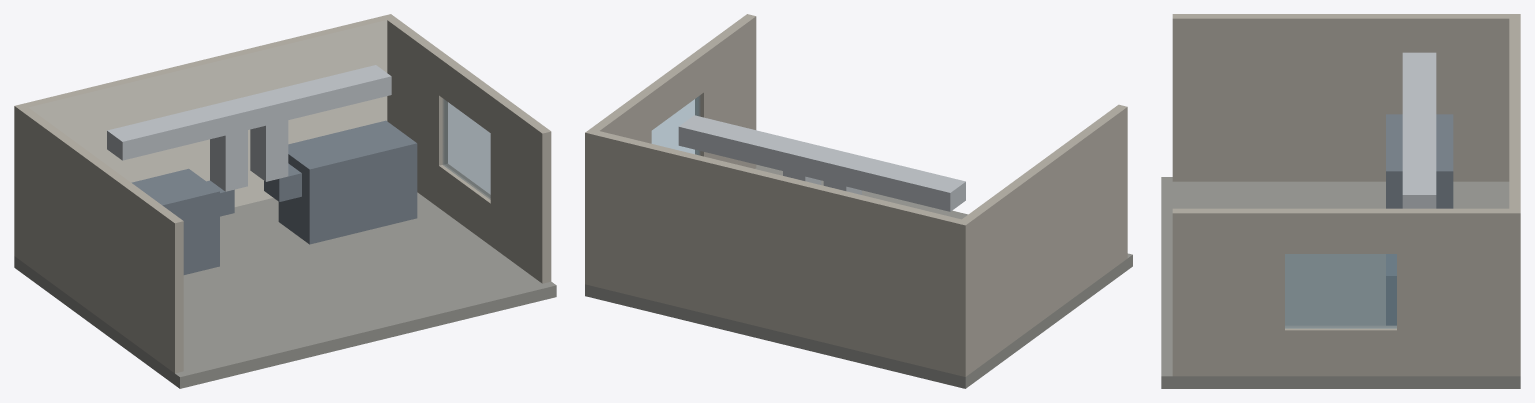
Rendered from sample-plant-room.fbx.
3 renders of one model, left to right at view 1: azimuth 30°, elevation 25°; view 2: azimuth 150°, elevation 25°; view 3: azimuth 270°, elevation 25°, orthographic. The views are drawn at different scales.
Visible parts, largest first — view 1: Floor: Generic 250mm [312101], Basic Wall: Generic 200mm Block [312103], Basic Wall: Generic 200mm Block [312102], Basic Wall: Generic 200mm Block [312104], AHU: Packaged 5000 L/s [312107], Rectangular Duct: Supply 600x400 [312108], AHU: Packaged 5000 L/s [312106], Fixed Window: 2000 x 1500mm [312105]; view 2: Basic Wall: Generic 200mm Block [312102], Basic Wall: Generic 200mm Block [312103], Rectangular Duct: Supply 600x400 [312108], Basic Wall: Generic 200mm Block [312104], Floor: Generic 250mm [312101], Fixed Window: 2000 x 1500mm [312105]; view 3: Basic Wall: Generic 200mm Block [312103], Basic Wall: Generic 200mm Block [312104], Floor: Generic 250mm [312101], Fixed Window: 2000 x 1500mm [312105], Rectangular Duct: Supply 600x400 [312108], Basic Wall: Generic 200mm Block [312102], AHU: Packaged 5000 L/s [312106], AHU: Packaged 5000 L/s [312107].
Boxes of the visible parts, x1,y1,x2,y2 form: Floor: Generic 250mm [312101]: [14, 192, 556, 388]; Basic Wall: Generic 200mm Block [312103]: [19, 107, 183, 373]; Basic Wall: Generic 200mm Block [312102]: [14, 14, 395, 259]; Basic Wall: Generic 200mm Block [312104]: [387, 18, 551, 283]; AHU: Packaged 5000 L/s [312107]: [264, 120, 417, 244]; Rectangular Duct: Supply 600x400 [312108]: [107, 65, 391, 191]; AHU: Packaged 5000 L/s [312106]: [131, 168, 234, 274]; Fixed Window: 2000 x 1500mm [312105]: [443, 99, 490, 199]; Basic Wall: Generic 200mm Block [312102]: [585, 129, 970, 376]; Basic Wall: Generic 200mm Block [312103]: [962, 104, 1127, 372]; Rectangular Duct: Supply 600x400 [312108]: [678, 115, 965, 211]; Basic Wall: Generic 200mm Block [312104]: [590, 14, 756, 168]; Floor: Generic 250mm [312101]: [585, 164, 1132, 388]; Fixed Window: 2000 x 1500mm [312105]: [651, 96, 700, 155]; Basic Wall: Generic 200mm Block [312103]: [1172, 14, 1509, 181]; Basic Wall: Generic 200mm Block [312104]: [1172, 208, 1509, 376]; Floor: Generic 250mm [312101]: [1161, 177, 1520, 388]; Fixed Window: 2000 x 1500mm [312105]: [1285, 254, 1396, 328]; Rectangular Duct: Supply 600x400 [312108]: [1402, 52, 1436, 208]; Basic Wall: Generic 200mm Block [312102]: [1509, 14, 1520, 376]; AHU: Packaged 5000 L/s [312106]: [1386, 114, 1453, 208]; AHU: Packaged 5000 L/s [312107]: [1386, 254, 1396, 325].
Bounding box in the file's own units: 27.56 × 21 × 11.32.
